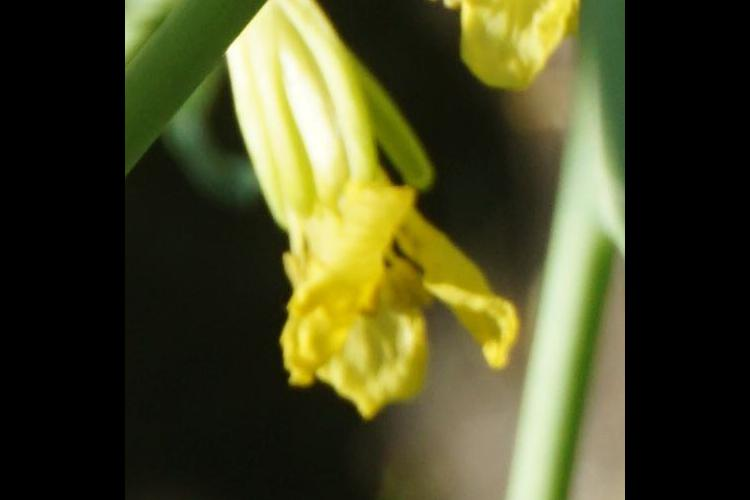yellow: (237, 1, 448, 411), (341, 1, 579, 76)
